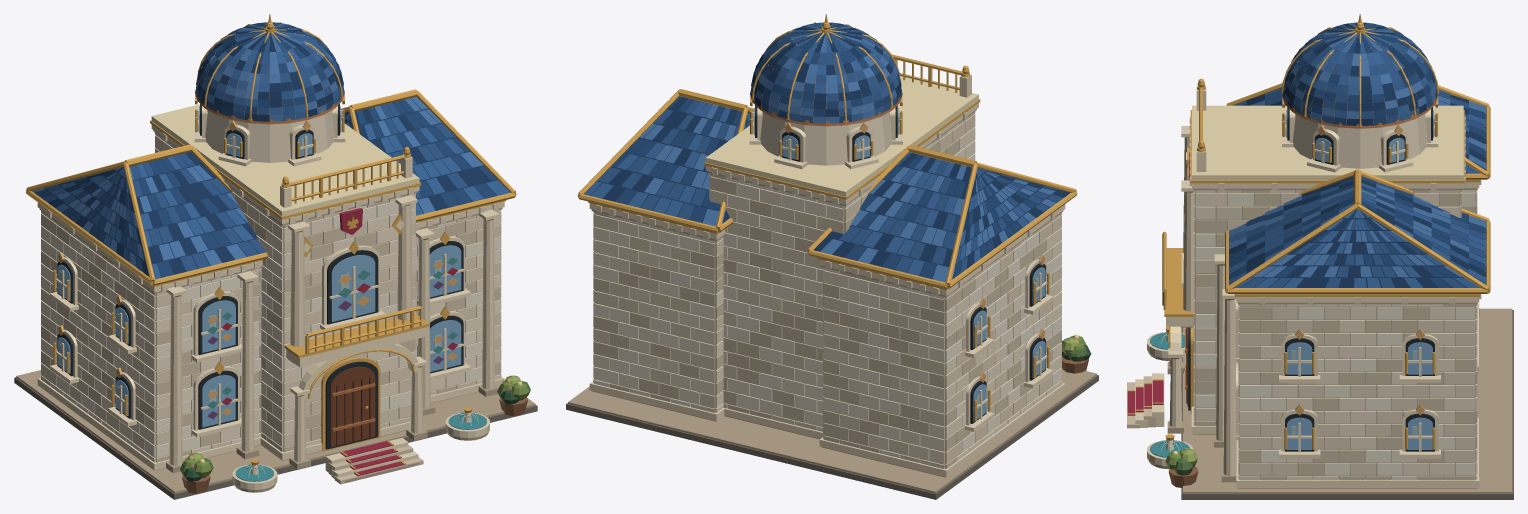
The model's file is noble-nivel-10.glb.
3 views of the same model, side by side, from view 1: azimuth 30°, elevation 25°; view 2: azimuth 150°, elevation 25°; view 3: azimuth 270°, elevation 25° (orthographic). The views are drawn at different scales.
Visible parts, largest first — view 1: Casa nobre 10 #e6d7ba, Casa nobre 10 #ded1b9, Casa nobre 10 #d5a452, Casa nobre 10 #e8dcc5, Casa nobre 10 #eae1ce, Casa nobre 10 #1b385b, Casa nobre 10 #cec1a8, Casa nobre 10 #eadbb2, Casa nobre 10 #567185, Casa nobre 10 #355f90, Casa nobre 10 #2e5481, Casa nobre 10 #234771 (+14 smaller); view 2: Casa nobre 10 #e8dcc5, Casa nobre 10 #ded1b9, Casa nobre 10 #cec1a8, Casa nobre 10 #eae1ce, Casa nobre 10 #1b385b, Casa nobre 10 #d5a452, Casa nobre 10 #e6d7ba, Casa nobre 10 #b4a38a, Casa nobre 10 #2e5481, Casa nobre 10 #4670a0, Casa nobre 10 #234771, Casa nobre 10 #355f90 (+6 smaller); view 3: Casa nobre 10 #e6d7ba, Casa nobre 10 #ded1b9, Casa nobre 10 #d5a452, Casa nobre 10 #e8dcc5, Casa nobre 10 #b4a38a, Casa nobre 10 #cec1a8, Casa nobre 10 #eadbb2, Casa nobre 10 #1b385b, Casa nobre 10 #355f90, Casa nobre 10 #eae1ce, Casa nobre 10 #2e5481, Casa nobre 10 #234771 (+10 smaller).
Boxes of the visible parts, x1=… form: Casa nobre 10 #e6d7ba: x1=37, y1=106, x2=504, y2=489; Casa nobre 10 #ded1b9: x1=41, y1=110, x2=501, y2=450; Casa nobre 10 #d5a452: x1=25, y1=14, x2=516, y2=475; Casa nobre 10 #e8dcc5: x1=41, y1=193, x2=501, y2=462; Casa nobre 10 #eae1ce: x1=41, y1=132, x2=501, y2=457; Casa nobre 10 #1b385b: x1=35, y1=26, x2=497, y2=277; Casa nobre 10 #cec1a8: x1=41, y1=148, x2=501, y2=462; Casa nobre 10 #eadbb2: x1=151, y1=104, x2=474, y2=399; Casa nobre 10 #567185: x1=57, y1=106, x2=461, y2=427; Casa nobre 10 #355f90: x1=50, y1=22, x2=510, y2=279; Casa nobre 10 #2e5481: x1=41, y1=22, x2=467, y2=272; Casa nobre 10 #234771: x1=35, y1=22, x2=497, y2=277; Casa nobre 10 #e8dcc5: x1=593, y1=123, x2=1061, y2=464; Casa nobre 10 #ded1b9: x1=593, y1=111, x2=1061, y2=468; Casa nobre 10 #cec1a8: x1=593, y1=111, x2=1061, y2=468; Casa nobre 10 #eae1ce: x1=593, y1=142, x2=1061, y2=457; Casa nobre 10 #1b385b: x1=590, y1=22, x2=1070, y2=278; Casa nobre 10 #d5a452: x1=577, y1=14, x2=1077, y2=421; Casa nobre 10 #e6d7ba: x1=589, y1=74, x2=1065, y2=477; Casa nobre 10 #b4a38a: x1=568, y1=109, x2=1096, y2=493; Casa nobre 10 #2e5481: x1=597, y1=24, x2=1063, y2=273; Casa nobre 10 #4670a0: x1=639, y1=22, x2=1056, y2=282; Casa nobre 10 #234771: x1=611, y1=23, x2=1057, y2=278; Casa nobre 10 #355f90: x1=584, y1=22, x2=1039, y2=275; Casa nobre 10 #e6d7ba: x1=1135, y1=87, x2=1479, y2=487; Casa nobre 10 #ded1b9: x1=1189, y1=113, x2=1481, y2=480; Casa nobre 10 #d5a452: x1=1127, y1=14, x2=1490, y2=449; Casa nobre 10 #e8dcc5: x1=1193, y1=190, x2=1477, y2=480; Casa nobre 10 #b4a38a: x1=1167, y1=188, x2=1512, y2=493; Casa nobre 10 #cec1a8: x1=1193, y1=190, x2=1477, y2=480; Casa nobre 10 #eadbb2: x1=1170, y1=105, x2=1478, y2=360; Casa nobre 10 #1b385b: x1=1229, y1=22, x2=1486, y2=287; Casa nobre 10 #355f90: x1=1229, y1=23, x2=1486, y2=287; Casa nobre 10 #eae1ce: x1=1193, y1=190, x2=1477, y2=479; Casa nobre 10 #2e5481: x1=1240, y1=23, x2=1486, y2=287; Casa nobre 10 #234771: x1=1229, y1=22, x2=1486, y2=287.
Size of the model in its own units: 10.52 by 10.39 by 9.26.
